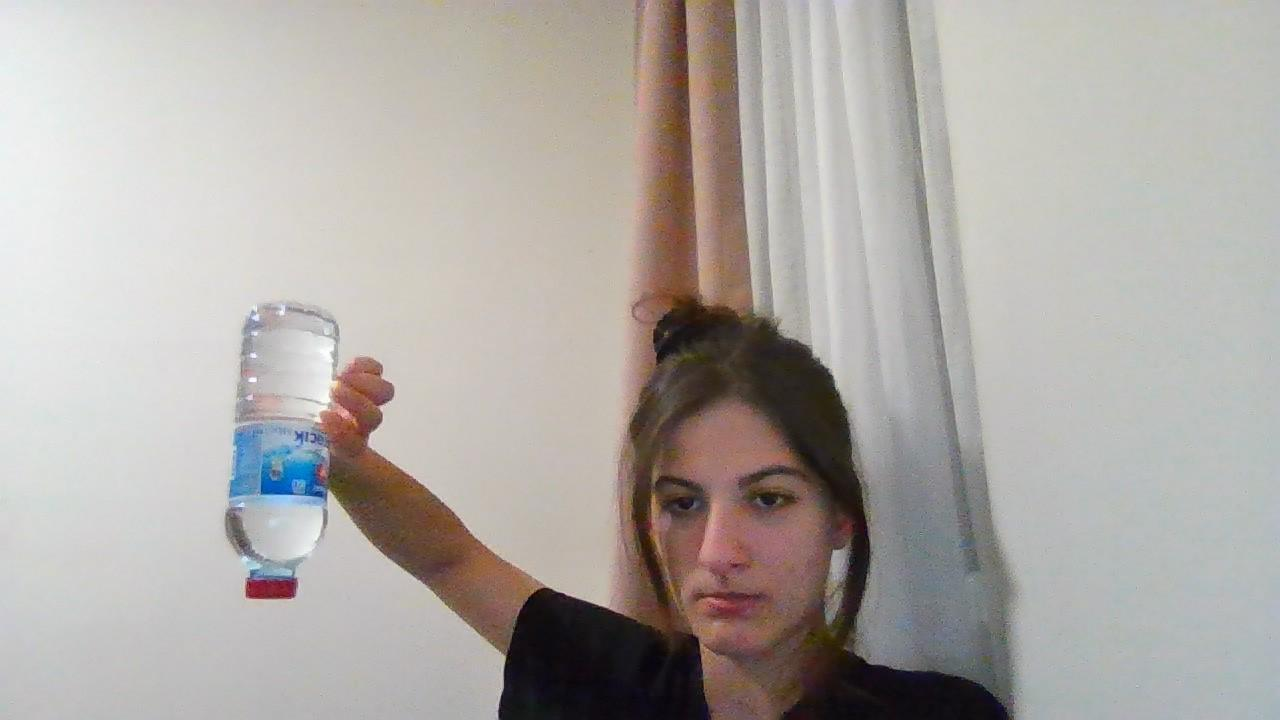bottle: (226, 298, 334, 602)
